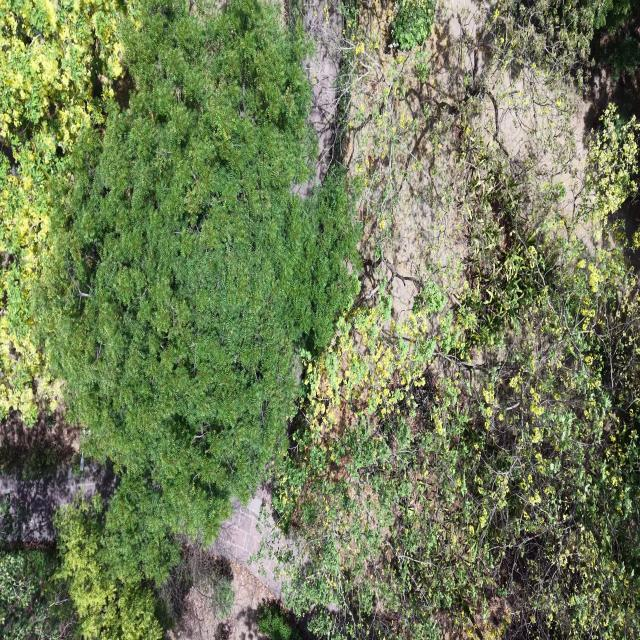DRY_AREA: (344, 0, 543, 321), (168, 488, 281, 639), (168, 488, 280, 639), (168, 489, 280, 639), (171, 488, 281, 639), (0, 406, 116, 543), (177, 488, 281, 639), (293, 0, 343, 197), (294, 0, 343, 196), (295, 0, 342, 196), (0, 463, 115, 542), (296, 0, 342, 195), (297, 0, 342, 195), (167, 562, 274, 639), (212, 488, 281, 598), (304, 0, 342, 182), (0, 405, 80, 479), (212, 489, 265, 564), (229, 563, 272, 639)
PATHWAYS: (294, 0, 343, 197), (295, 0, 342, 196), (0, 463, 116, 542)
VEGETATION_TREE: (0, 0, 639, 639), (272, 3, 639, 638), (2, 2, 357, 638), (272, 112, 639, 638), (40, 0, 358, 583), (434, 112, 639, 637), (265, 288, 443, 637), (0, 0, 124, 473), (0, 0, 123, 424), (0, 496, 162, 639), (55, 495, 162, 639), (0, 495, 77, 639), (497, 0, 639, 78), (490, 0, 606, 76), (159, 542, 237, 638), (0, 549, 76, 639), (0, 407, 77, 479), (592, 0, 639, 77), (390, 0, 435, 50), (258, 602, 301, 639)
